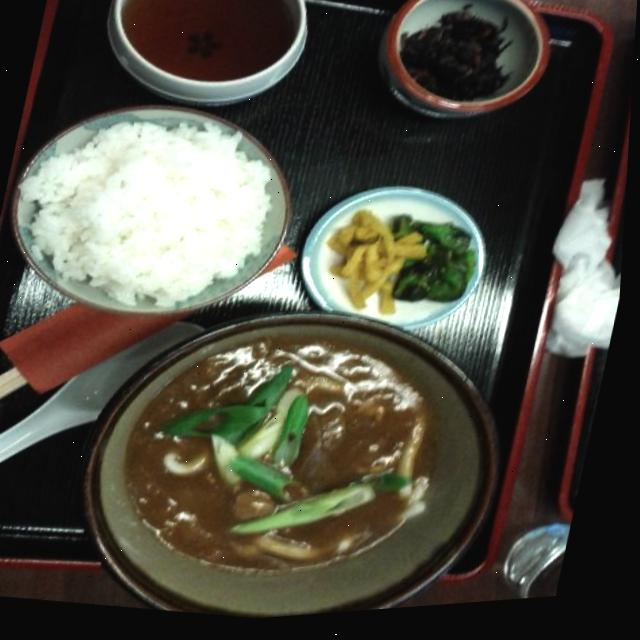米饭主食: (0, 70, 323, 354)
